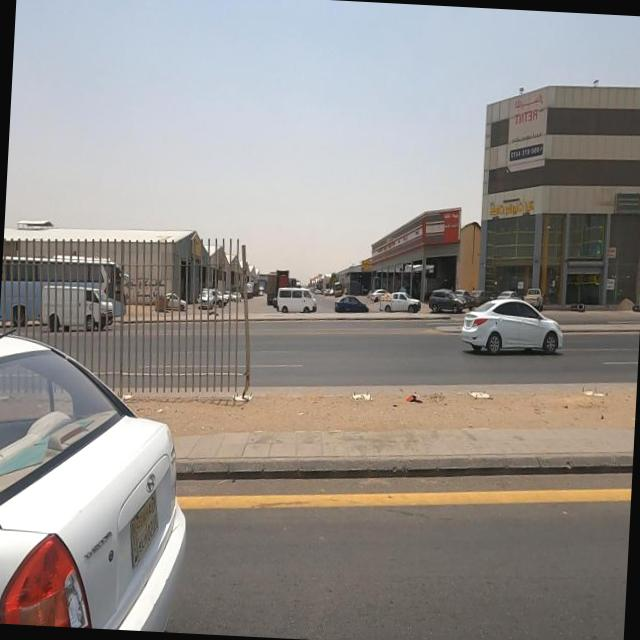debris: (379, 357, 452, 436), (139, 377, 182, 434)
